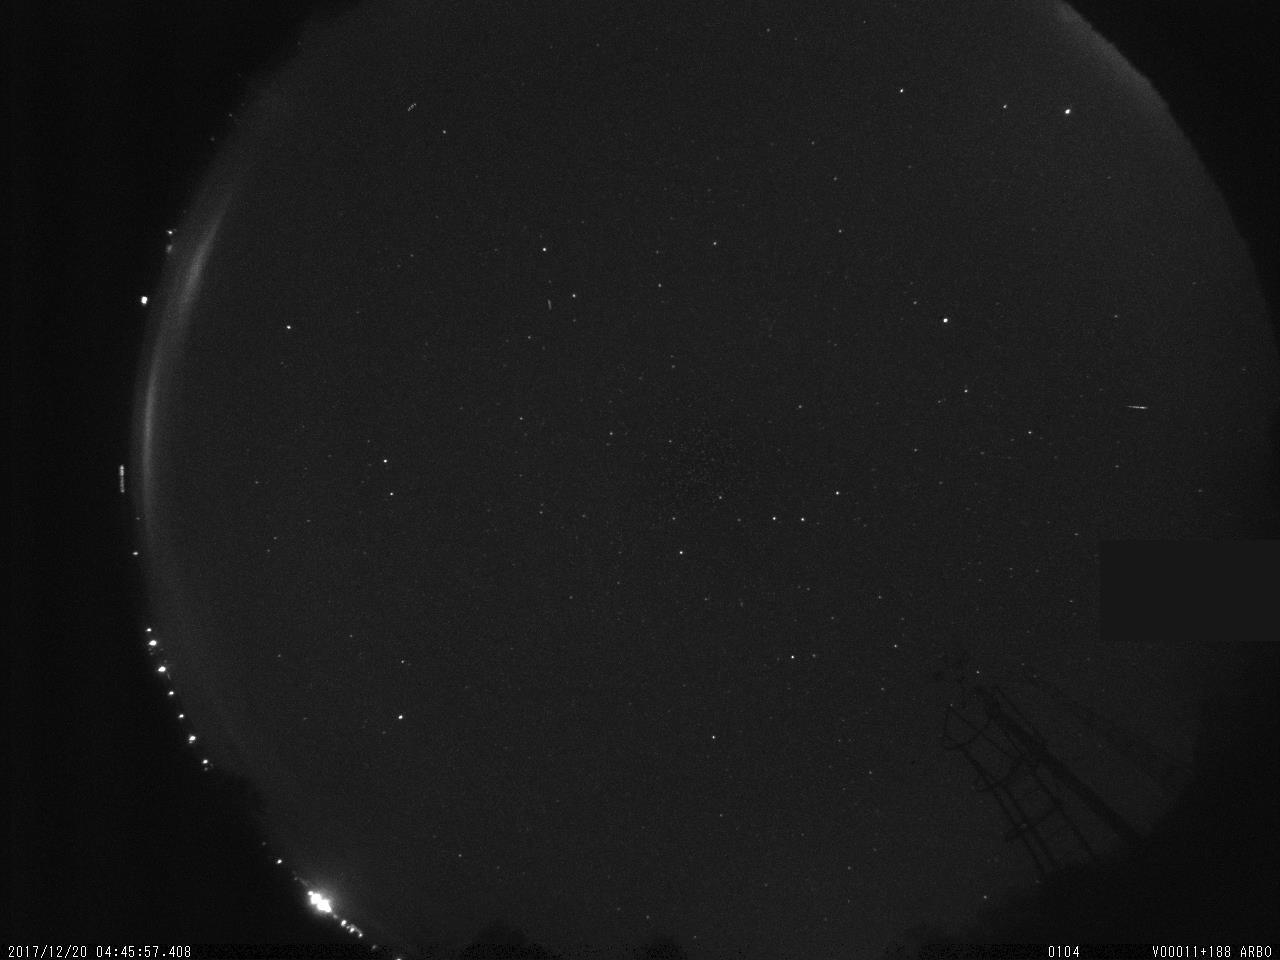meteor: (1123, 400, 1156, 411)
